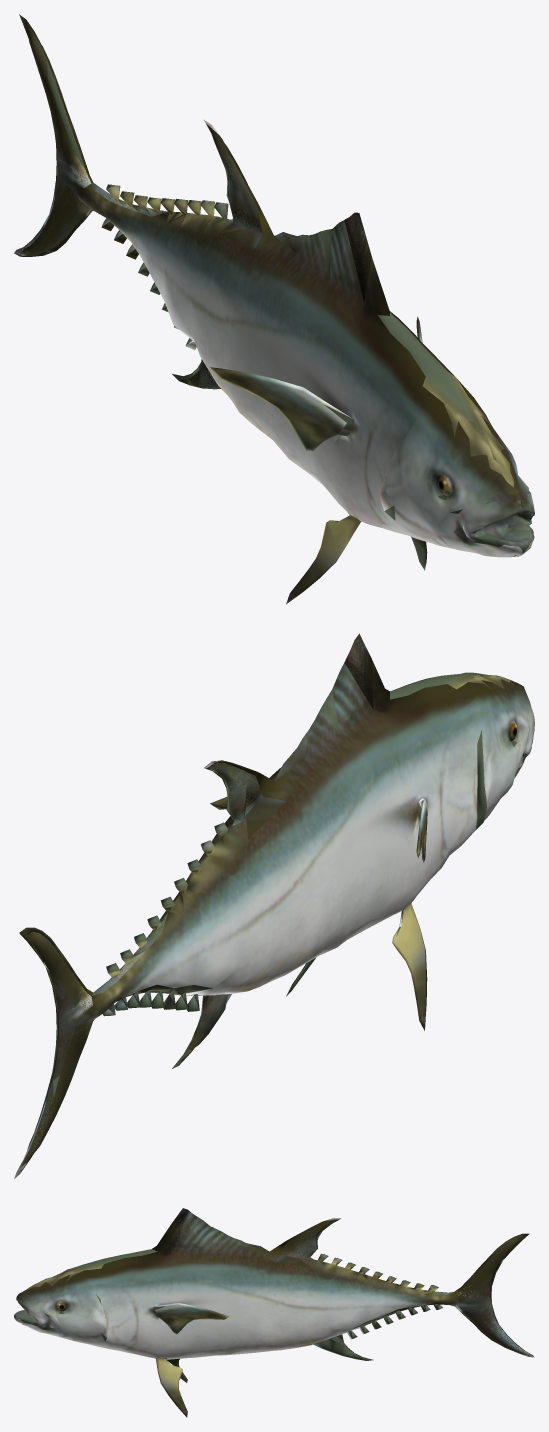
The model's file is fish.glb.
The picture shows the model from 3 angles, top to bottom: view 1: azimuth 30°, elevation 25°; view 2: azimuth 150°, elevation 25°; view 3: azimuth 270°, elevation 25°; orthographic projection. The views are drawn at different scales.
Parts seen in each view (by area): view 1: TUNA; view 2: TUNA; view 3: TUNA.
Part boxes in pixels (x1,y1,x2,y2): TUNA: (14,14,534,604); TUNA: (14,633,534,1178); TUNA: (14,1208,534,1417).
Size of the model in its own units: 0.3091 by 0.5371 by 1.32.
1 material, 1 textured.
